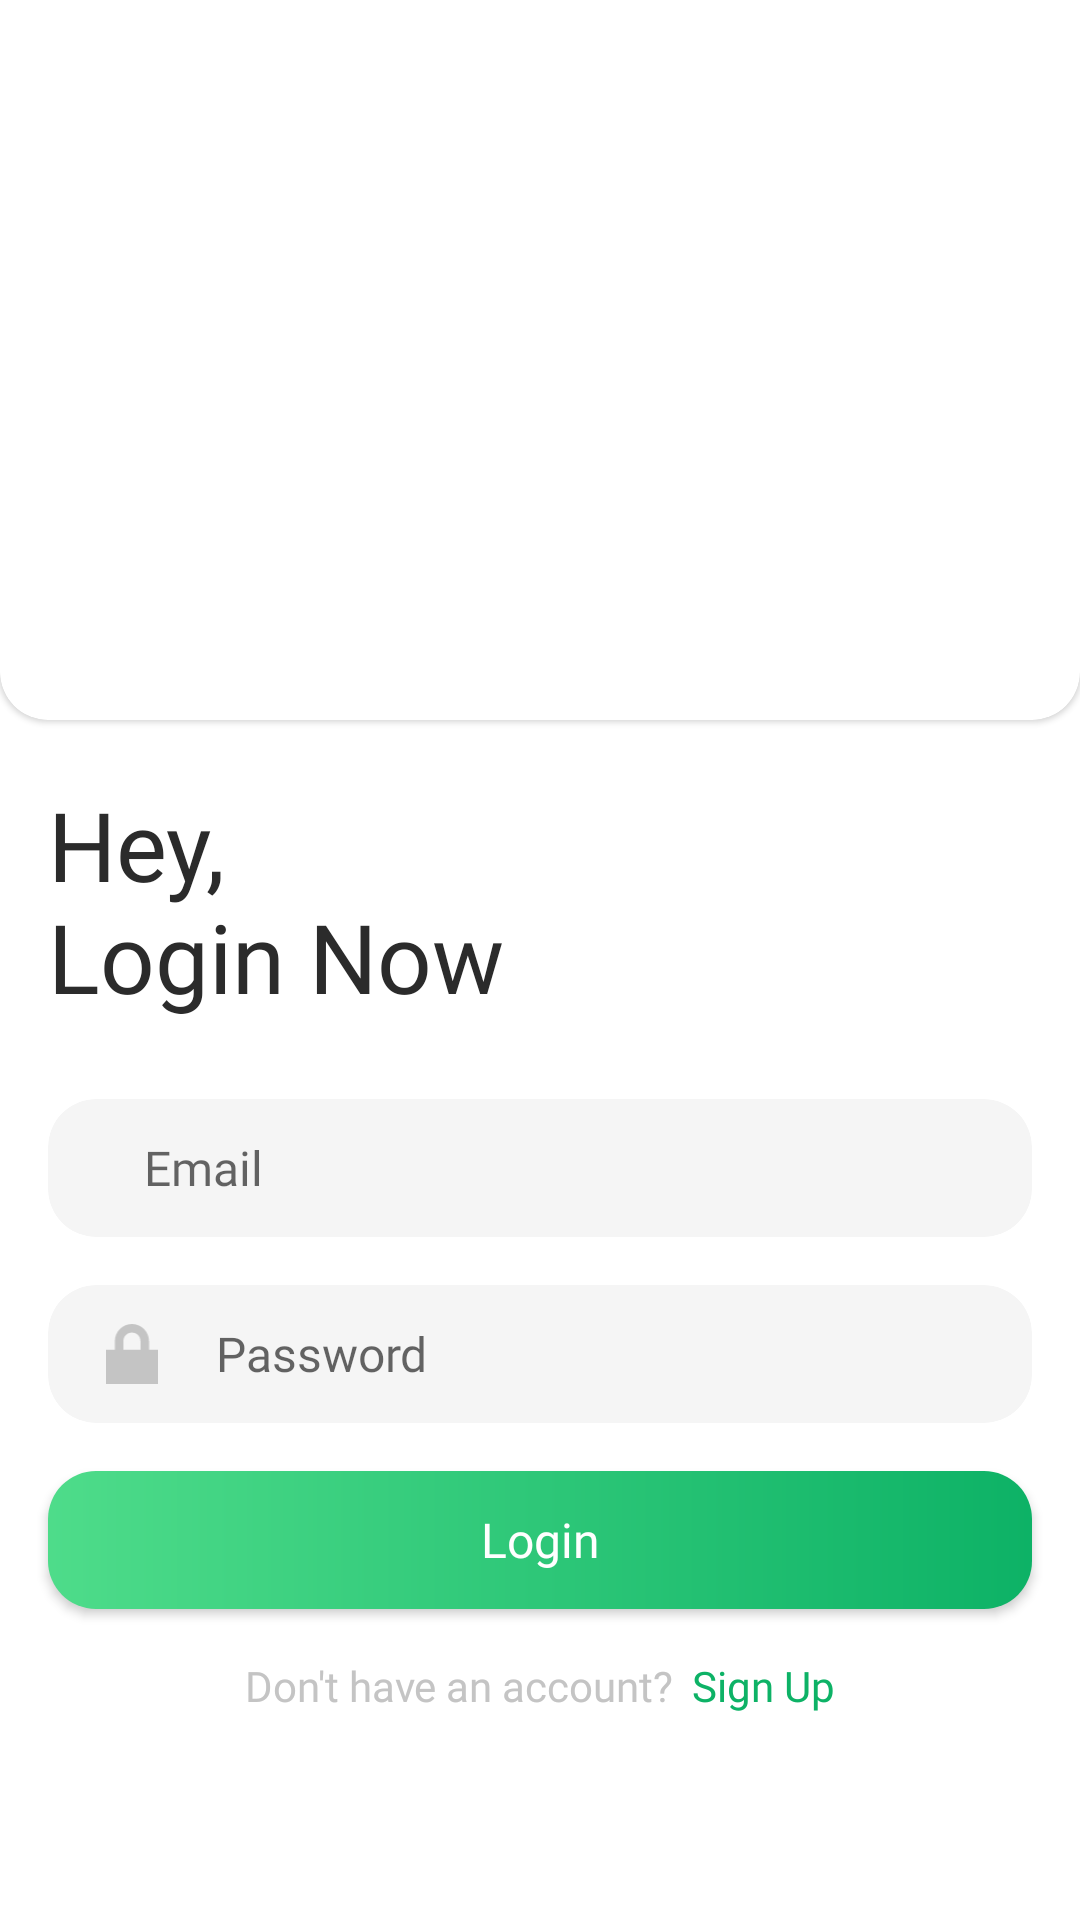

Icon bounding boxes for this 1080px×1920px phone screenshot, format (x1, y1, x2, y2):
lock: (106, 1324, 158, 1384)
